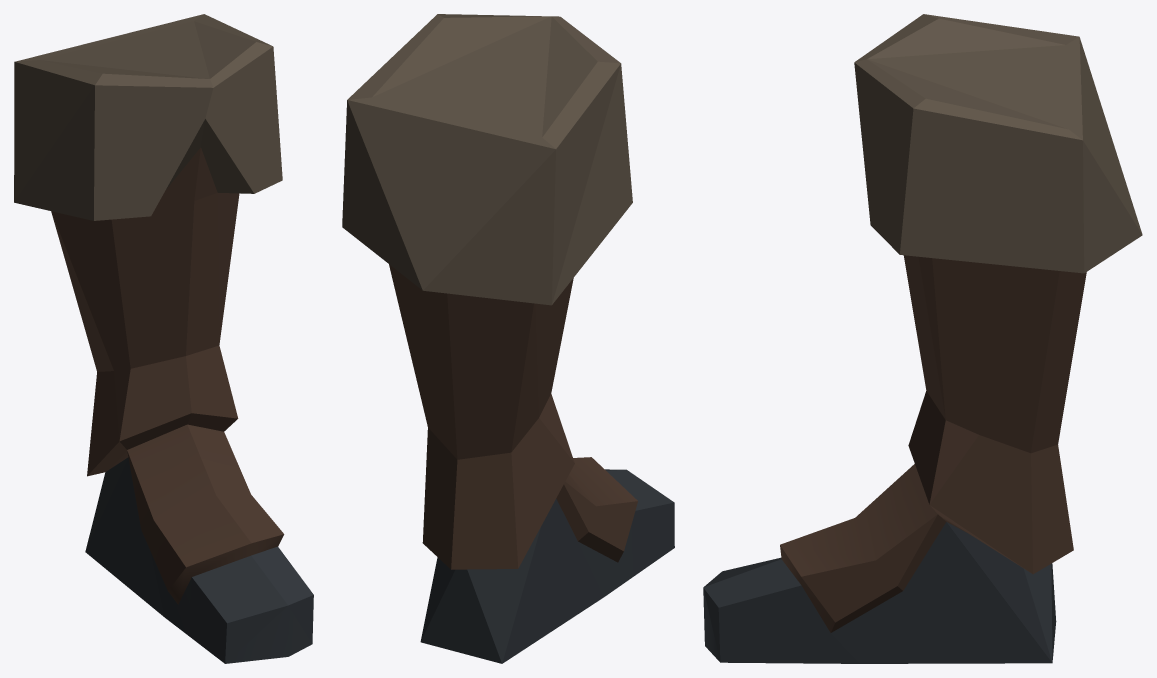
File: Chr_LegRight_Female_19_Static.fbx
3 renders of one model, left to right at view 1: azimuth 30°, elevation 25°; view 2: azimuth 150°, elevation 25°; view 3: azimuth 270°, elevation 25°, orthographic. The views are drawn at different scales.
Visible parts, largest first — view 1: Chr_LegRight_Female_19_Static; view 2: Chr_LegRight_Female_19_Static; view 3: Chr_LegRight_Female_19_Static.
Boxes of the visible parts, x1,y1,x2,y2 form: Chr_LegRight_Female_19_Static: [14, 14, 313, 663]; Chr_LegRight_Female_19_Static: [342, 14, 674, 663]; Chr_LegRight_Female_19_Static: [703, 14, 1142, 663].
Size of the model in its own units: 0.1573 by 0.4045 by 0.276.
